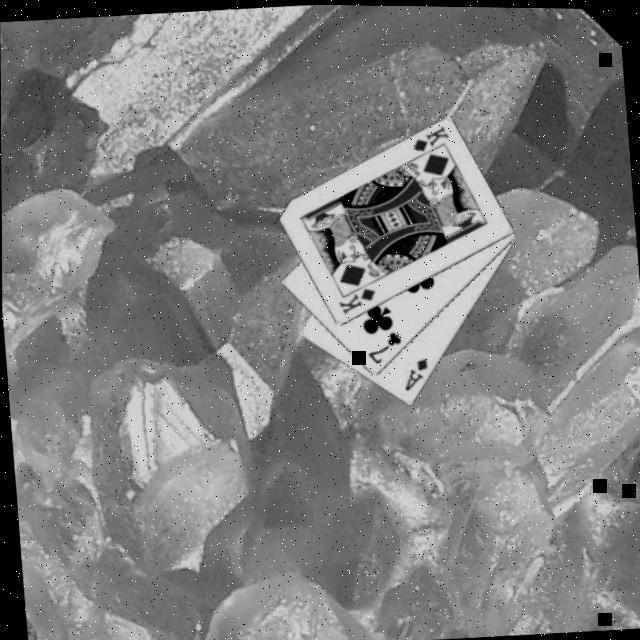7C: (364, 326, 406, 365)
AD: (398, 352, 433, 392)
KD: (334, 282, 379, 316), (409, 120, 453, 154)
